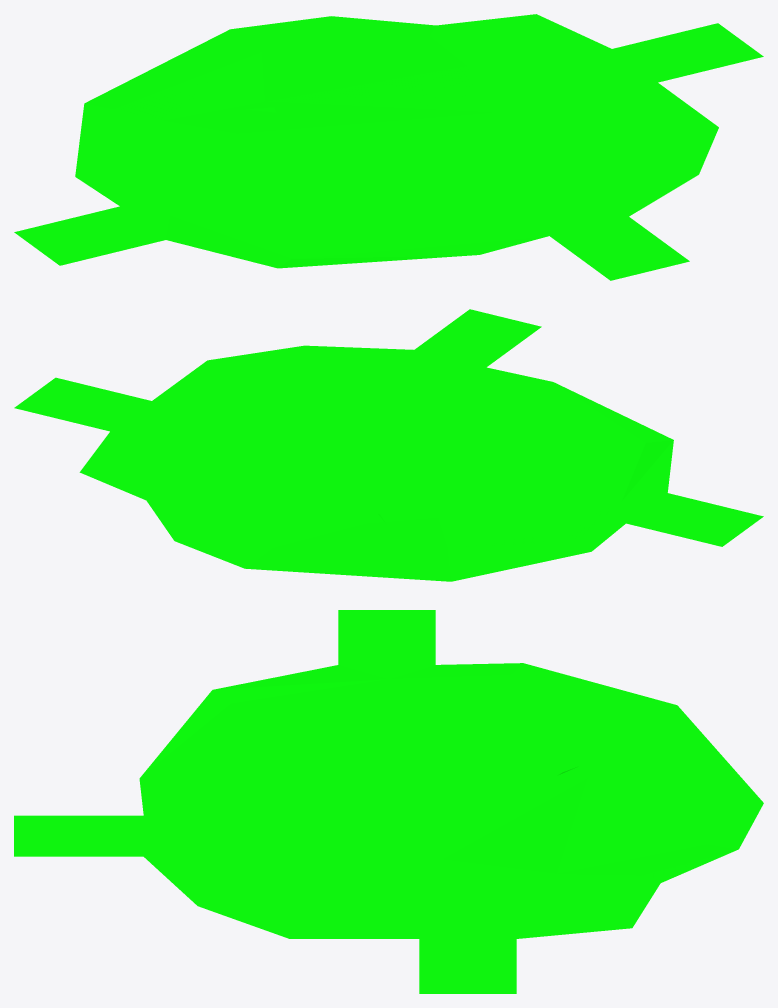
Rendered from s04a_td1-floor.glb.
The picture shows the model from 3 angles, top to bottom: view 1: azimuth 30°, elevation 25°; view 2: azimuth 150°, elevation 25°; view 3: azimuth 270°, elevation 25°; orthographic projection. The views are drawn at different scales.
Visible parts, largest first — view 1: collision_floor-colonly; view 2: collision_floor-colonly; view 3: collision_floor-colonly.
Part boxes in pixels (box(x1,y1,x2,y2)): collision_floor-colonly: box(14, 14, 763, 280); collision_floor-colonly: box(14, 309, 763, 581); collision_floor-colonly: box(14, 610, 763, 993).
Bounding box in the file's own units: 56 × 0.2852 × 46.25.
